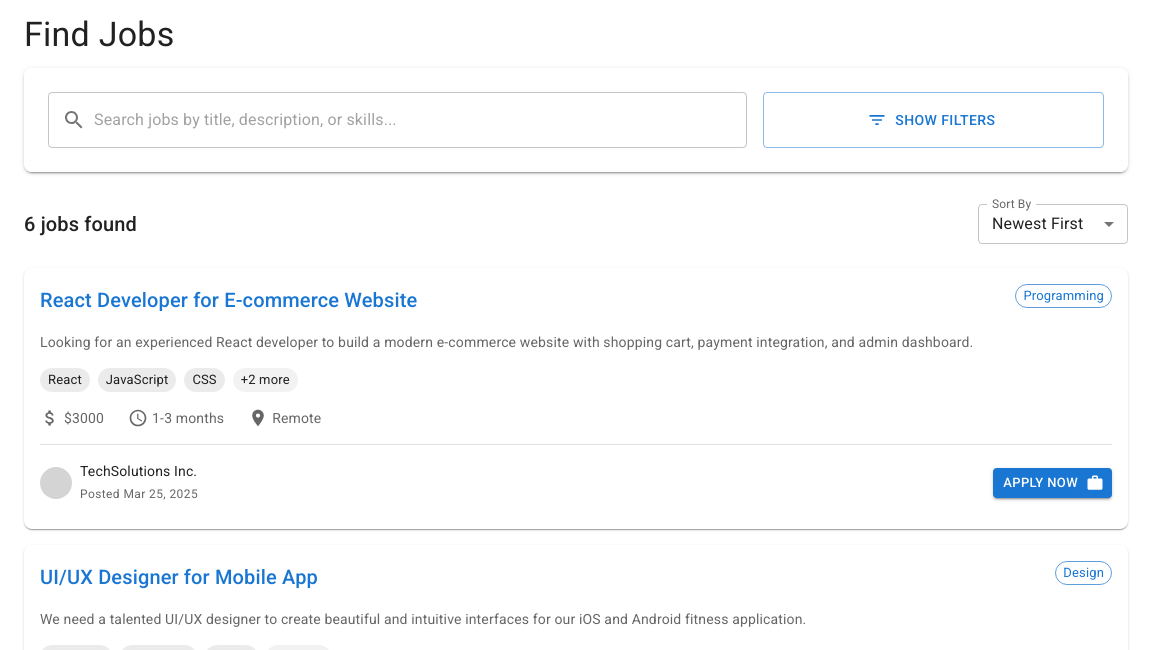
Test case: JobsPage Component › clears all filters
Check: the link "React Developer for E-commerce Website" is shown, box [40,284,417,316]
Check: the link "UI/UX Designer for Mobile App" is shown, box [40,561,318,593]
Enter a search term
Type "React" into the field with placeholder "Search jobs by title, description, or skills...". click: [420, 120]
box: [94,92,747,148]
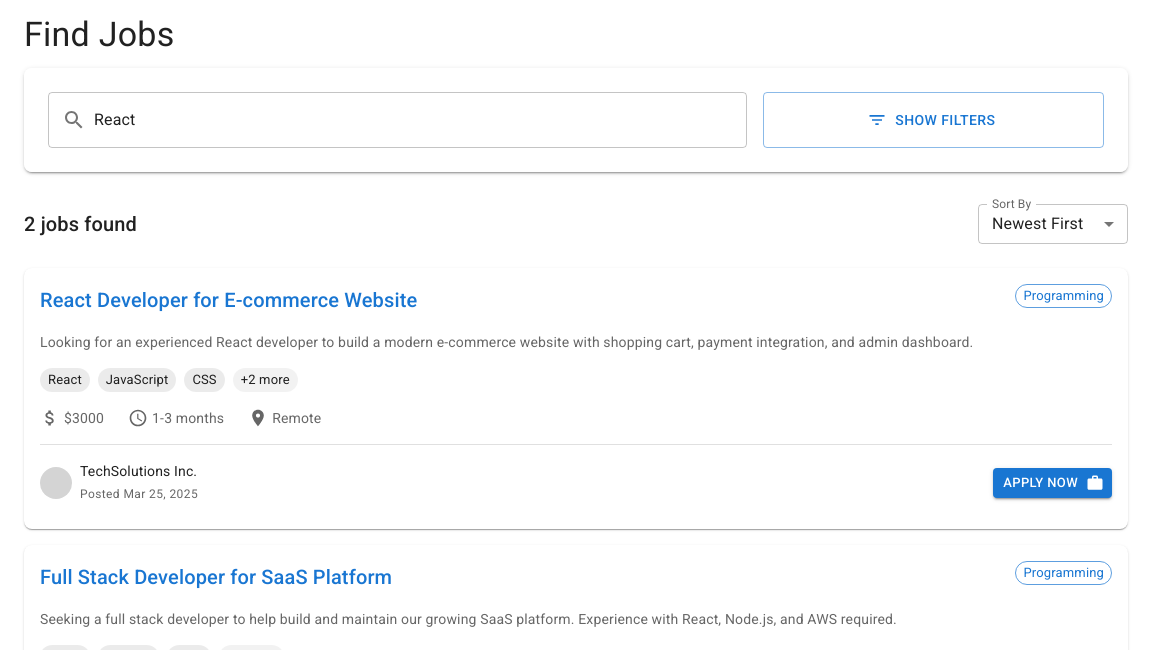
Check: the link "React Developer for E-commerce Website" is shown, box [40,284,417,316]
Check: the link "UI/UX Designer for Mobile App" is gone
Click the Show Filters button
Click the button "Show Filters". click: [933, 120]
box: [763,92,1104,148]
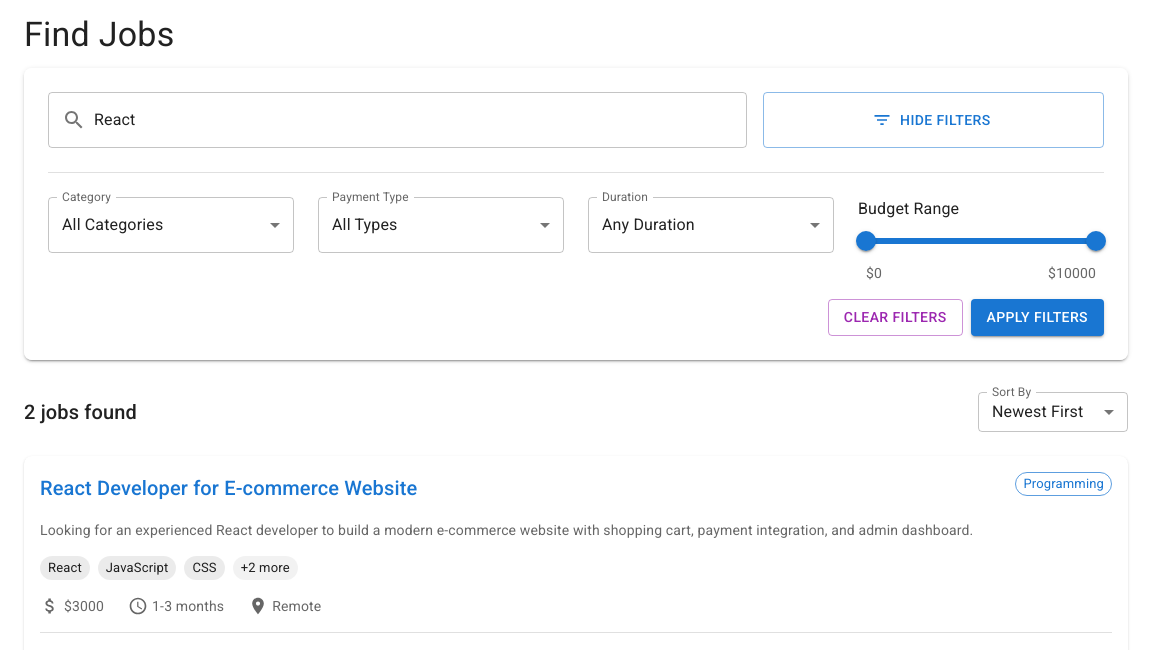
Click Clear Filters
Click the button "Clear Filters". click: [895, 318]
box: [828,300,963,336]
(page scrolled)
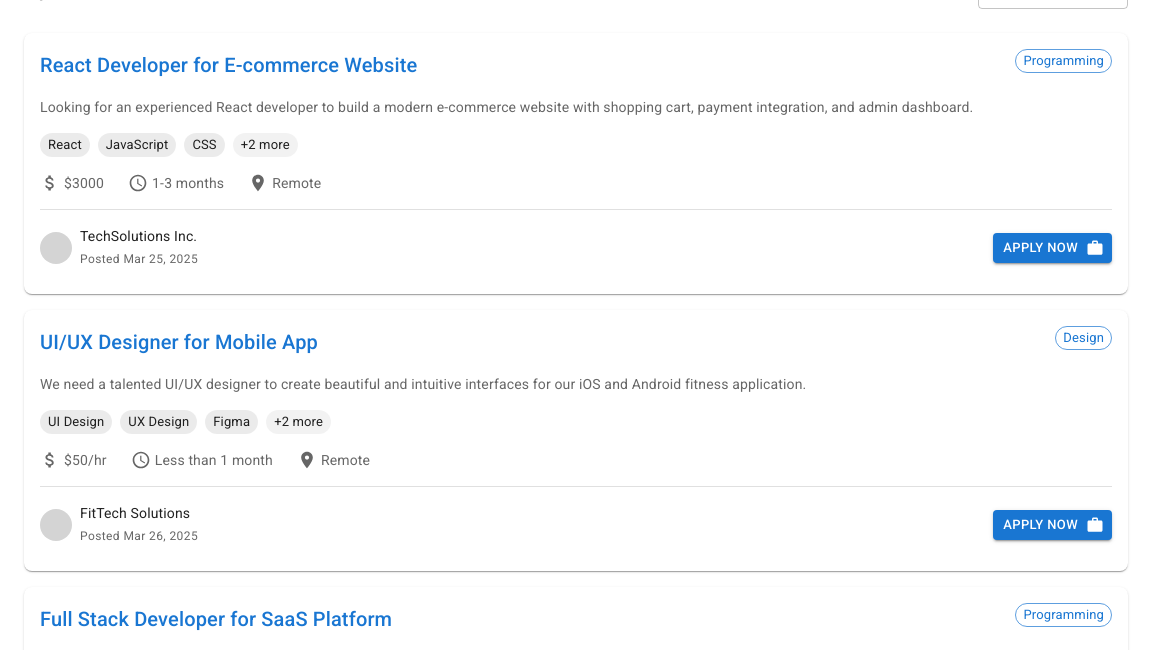
Check: the link "React Developer for E-commerce Website" is shown, box [40,49,417,81]
Check: the link "UI/UX Designer for Mobile App" is shown, box [40,326,318,358]
